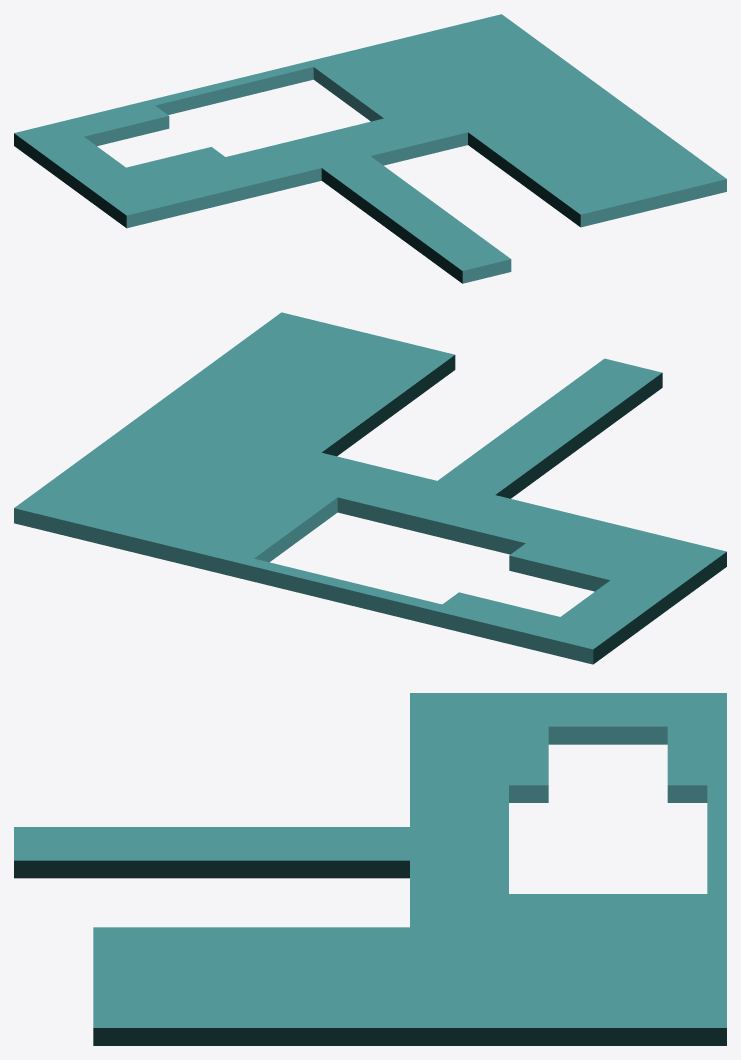
The model's file is cubo_3.FBX.
3 renders of one model, top to bottom at view 1: azimuth 30°, elevation 25°; view 2: azimuth 150°, elevation 25°; view 3: azimuth 270°, elevation 25°, orthographic. The views are drawn at different scales.
Visible parts, largest first — view 1: Box001; view 2: Box001; view 3: Box001.
Boxes of the visible parts, x1=… form: Box001: x1=14, y1=14, x2=726, y2=283; Box001: x1=14, y1=312, x2=726, y2=664; Box001: x1=14, y1=693, x2=726, y2=1045.
Size of the model in its own units: 10 by 0.25 by 9.
